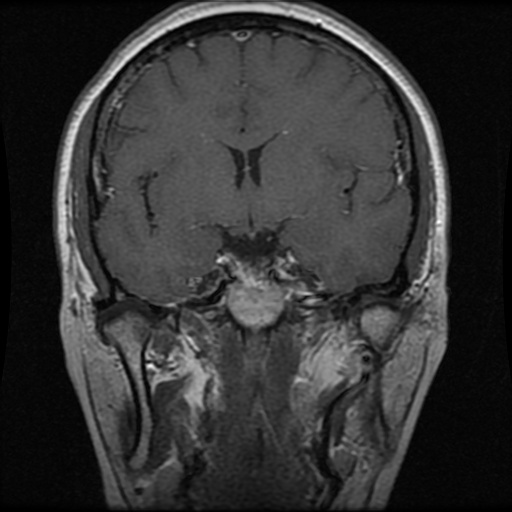pituitary: (214, 249, 293, 286)
